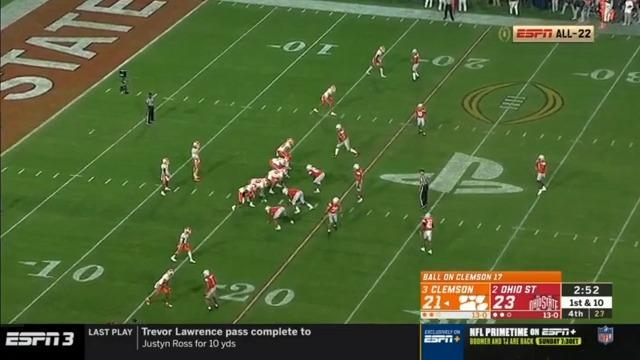player: (144, 267, 174, 308), (170, 225, 196, 265), (334, 123, 362, 160), (311, 82, 339, 119), (281, 186, 313, 214), (265, 205, 296, 232), (232, 183, 260, 212), (202, 268, 220, 312), (535, 152, 553, 196), (365, 44, 386, 80), (410, 102, 431, 138), (420, 212, 437, 255), (157, 152, 173, 197), (324, 196, 340, 236), (275, 137, 294, 169), (266, 169, 288, 196), (306, 164, 325, 195), (352, 162, 366, 204), (247, 176, 269, 202), (189, 139, 201, 184), (409, 47, 423, 83), (268, 155, 290, 176)
ref: (417, 171, 432, 211), (145, 90, 159, 128), (443, 0, 457, 23)
